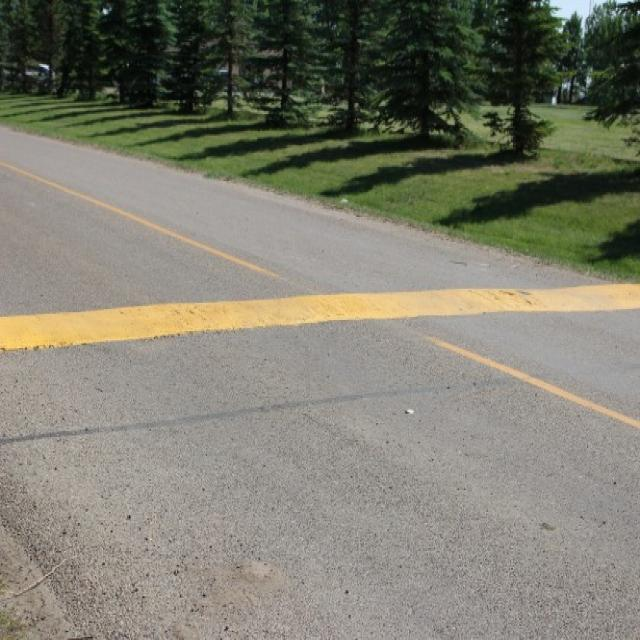speed-bump: (0, 252, 640, 374)
